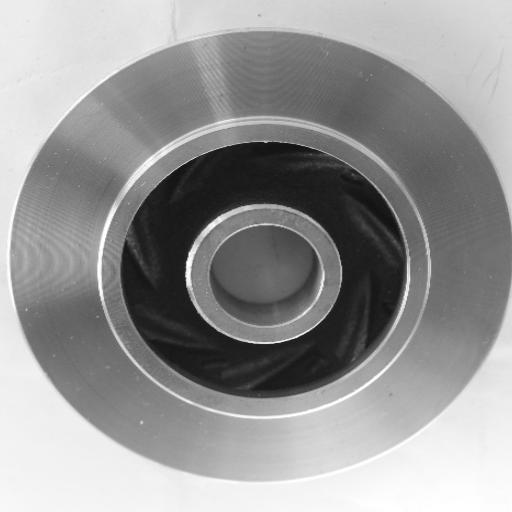polished_casting: (10, 28, 508, 485)
